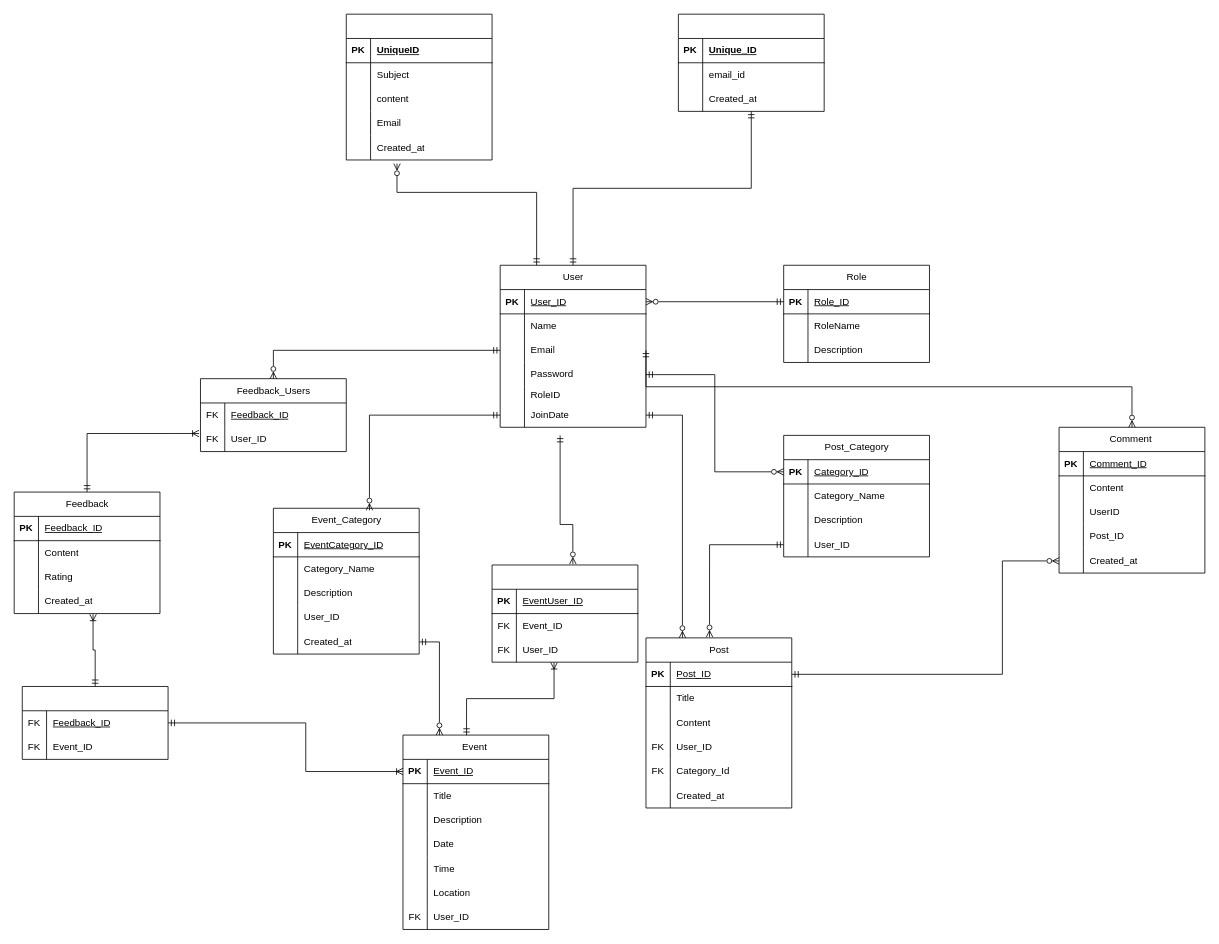
Some shapes in this 1219 by 944 pixel diagram are drawn without their labels. Each missing label, with the box of its shape:
Contact: (345, 13, 492, 160)
Event_Users: (491, 564, 638, 662)
Feedback_Events: (21, 686, 168, 759)
Newspapar: (678, 13, 824, 111)
